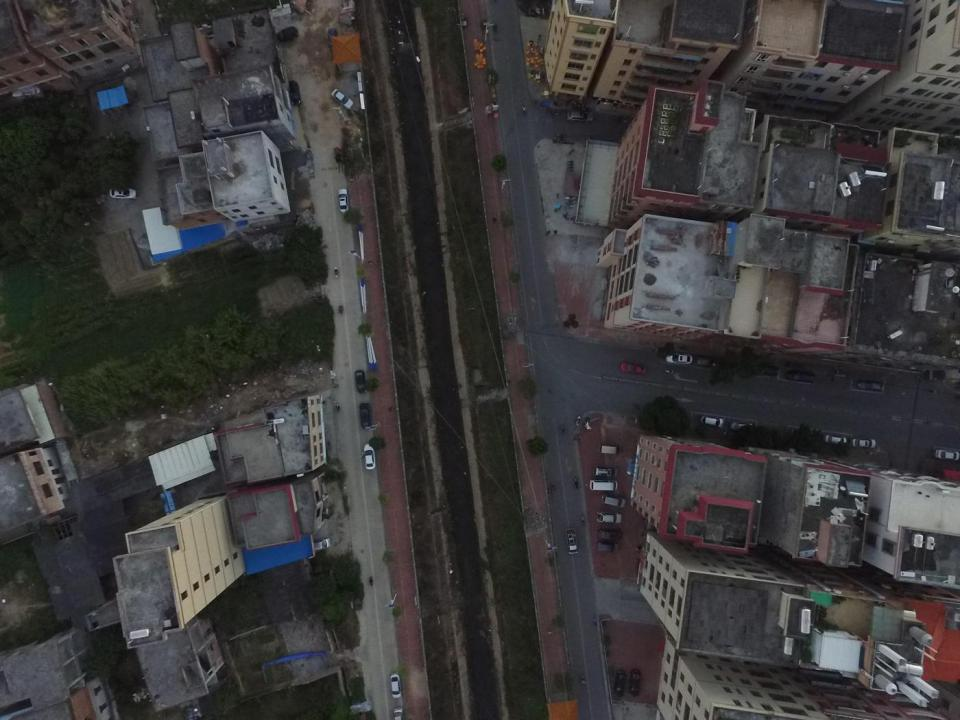car: (331, 88, 354, 110), (360, 441, 376, 470), (785, 369, 817, 383), (566, 108, 594, 123), (358, 401, 372, 429), (613, 669, 627, 697), (665, 350, 693, 364), (275, 26, 298, 43), (619, 361, 646, 375), (108, 187, 137, 200), (601, 493, 626, 508), (629, 668, 641, 697), (288, 79, 301, 105), (596, 511, 622, 524), (354, 369, 367, 394), (858, 379, 883, 392), (390, 672, 402, 698), (596, 540, 620, 553), (700, 414, 724, 427), (934, 448, 960, 460), (598, 528, 623, 540), (851, 437, 876, 449), (326, 28, 338, 52), (338, 189, 350, 213), (731, 420, 754, 432), (822, 434, 849, 444)
truck: (564, 527, 578, 555)
van: (590, 480, 618, 491), (593, 466, 619, 477), (599, 444, 620, 454)
